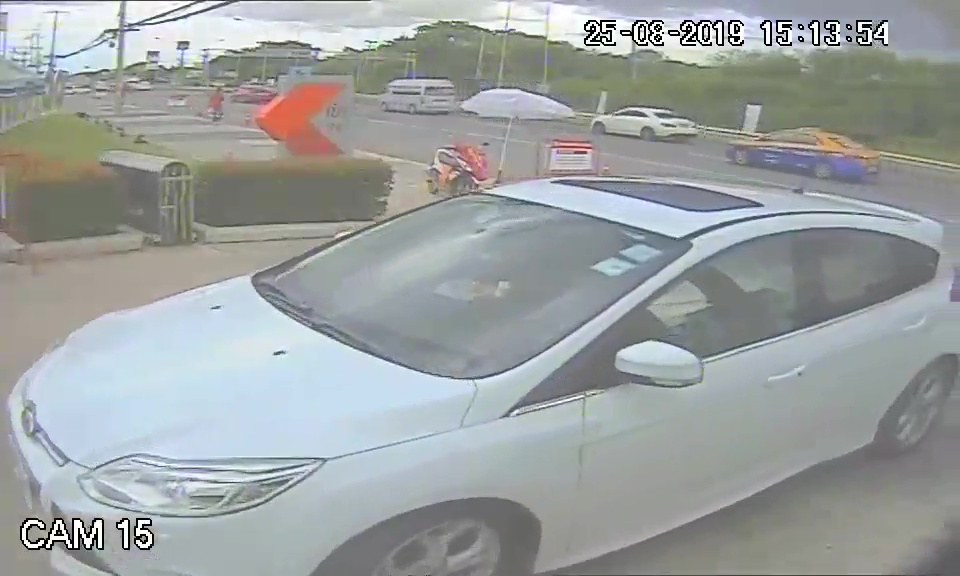sedan: (12, 178, 760, 565)
